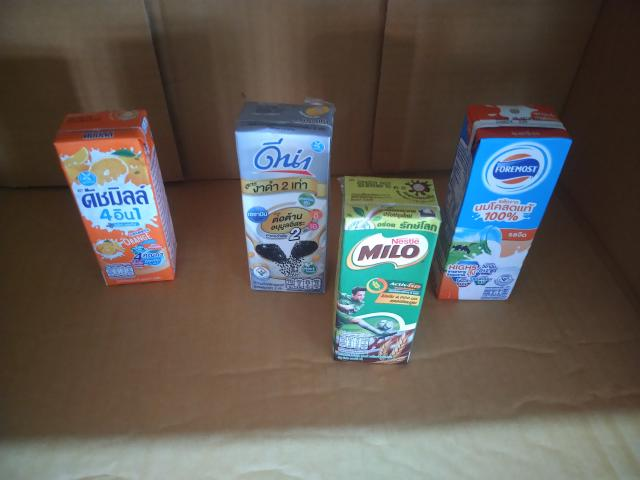drink_box: (46, 96, 202, 294), (443, 91, 574, 310), (334, 150, 442, 383), (226, 80, 332, 310)
